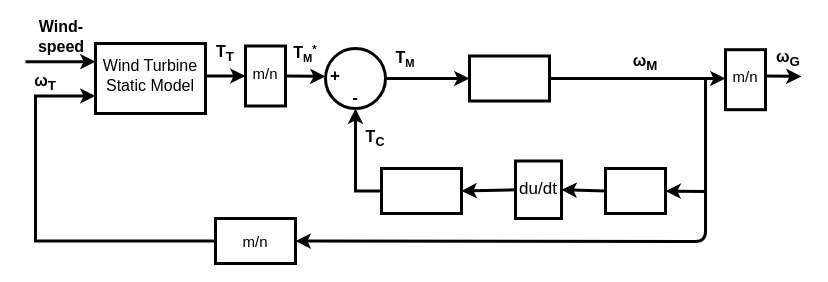
The diagram is 828 pixels wide and 282 high, and some of its shapes have lost their labels. Here are the shapes that lost their labels. From the top down, the centre of each, then its label:
the point at 509,78: 1/(SJ M )
the point at 421,190: J T .a - J M
the point at 635,190: FPB
